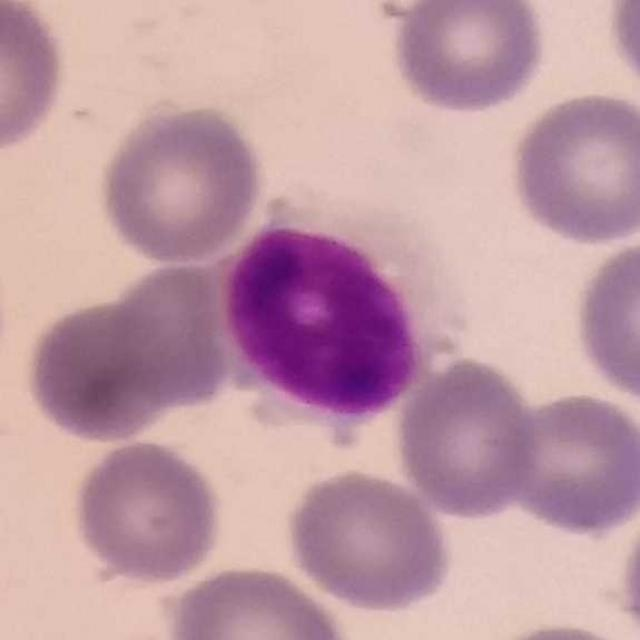Lymphocyte: (190, 199, 463, 432)
RBC: (18, 284, 210, 447), (92, 98, 268, 267), (280, 464, 457, 615), (391, 353, 543, 521), (68, 435, 227, 587), (504, 87, 640, 248), (500, 387, 640, 539), (385, 0, 552, 118), (162, 560, 358, 640), (570, 235, 640, 412), (0, 0, 71, 159), (602, 0, 640, 102), (478, 616, 636, 640), (615, 495, 640, 639)
